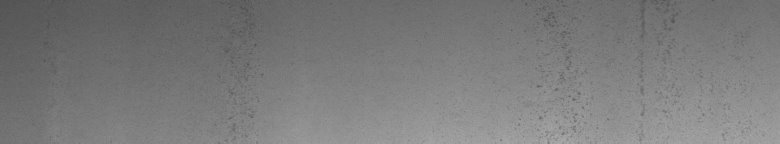ib: (530, 4, 680, 136)
